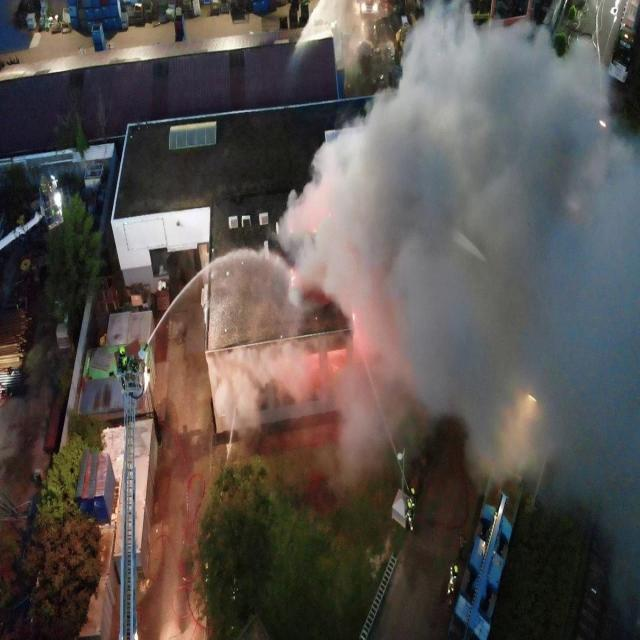Fire: (291, 268, 295, 286), (352, 312, 355, 322)
Smoke: (201, 0, 640, 617)
